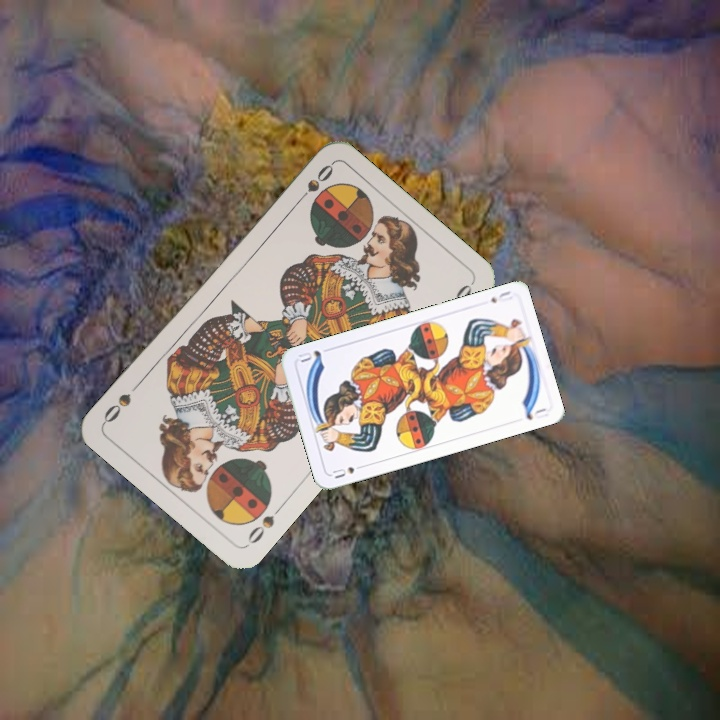SO: (291, 160, 337, 208), (243, 500, 286, 549)
SU: (328, 460, 368, 481), (486, 287, 514, 306)
